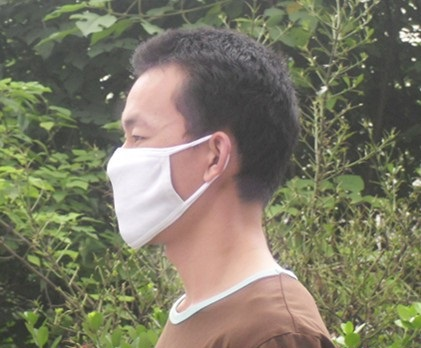face_mask: (105, 72, 201, 248)
